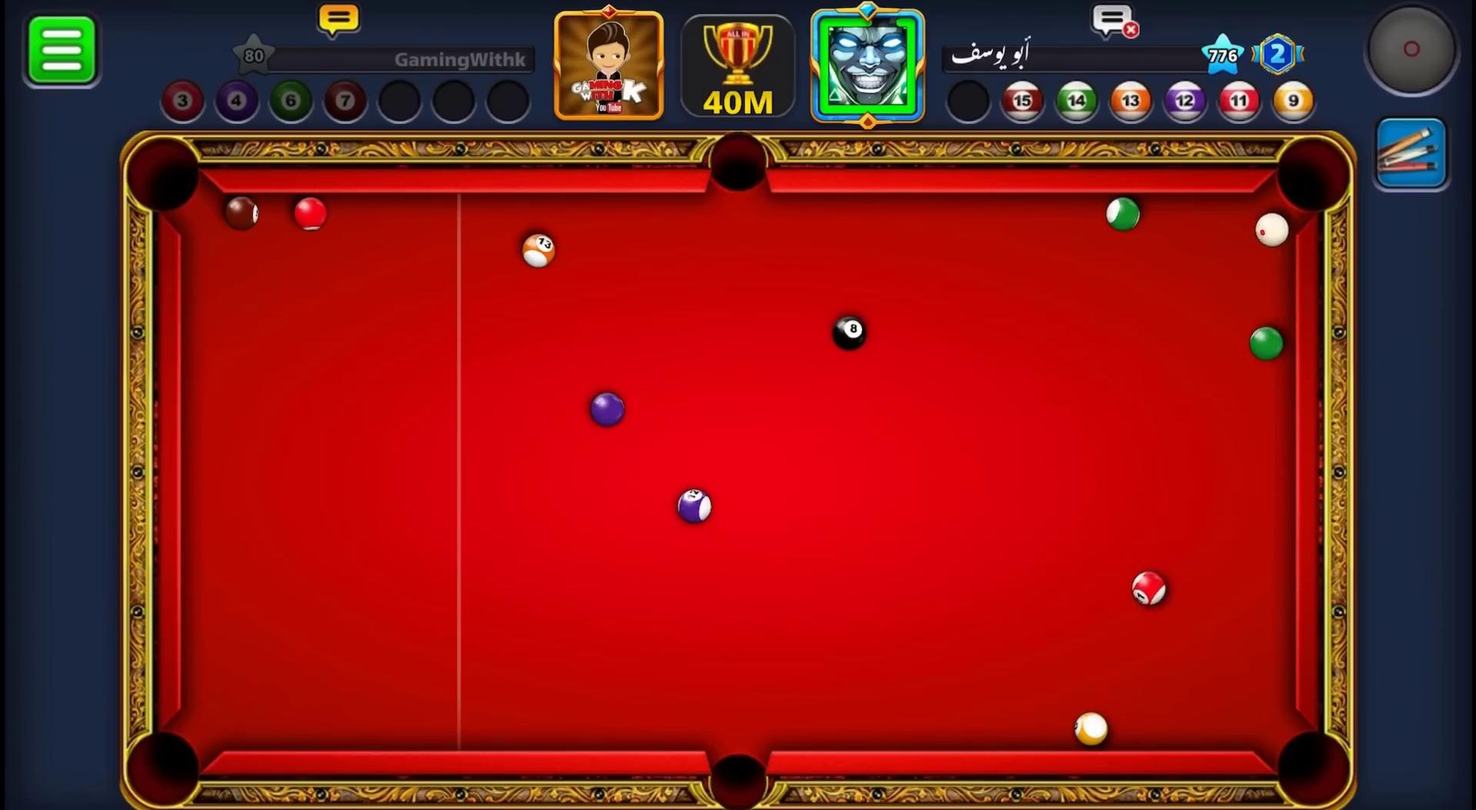Ball: (1098, 192, 1149, 233), (1246, 324, 1288, 371), (1128, 567, 1167, 610), (832, 310, 868, 351), (589, 390, 626, 428), (219, 195, 256, 232), (521, 231, 557, 268), (1074, 713, 1110, 749), (677, 487, 712, 523), (293, 195, 328, 231)
Hole: (1272, 132, 1356, 220), (1275, 731, 1352, 810), (124, 135, 202, 212), (126, 730, 202, 805), (702, 748, 771, 810), (708, 131, 768, 191)
Play_Area: (181, 192, 1293, 753)
Spin: (1360, 4, 1462, 99)
White: (1255, 211, 1293, 251)
